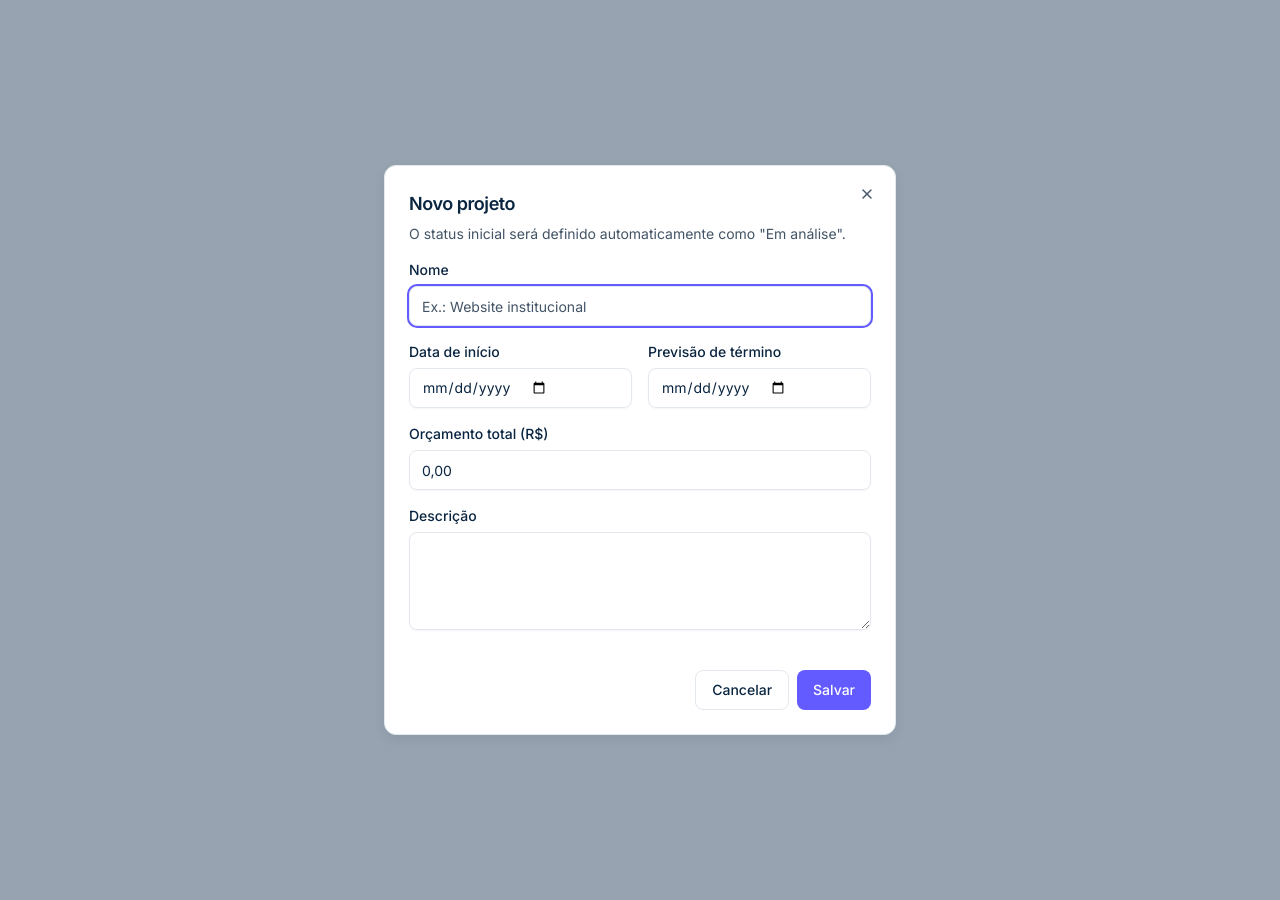
Test: ProjectFormModal › exibe erro quando a previsão de término não é posterior à data de início
In the field labelled "Nome": (640, 306) [409, 286, 871, 326], type "Projeto teste"
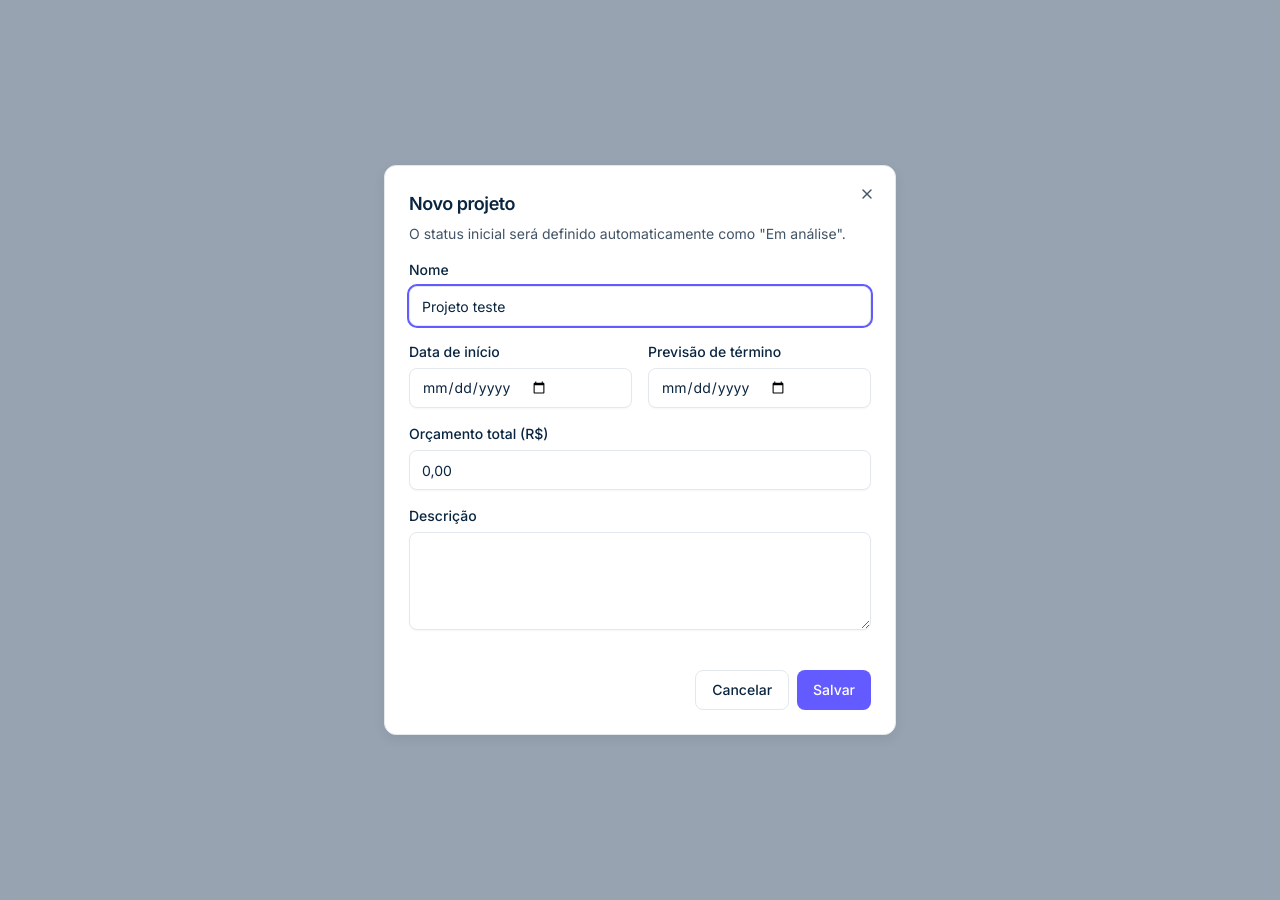
In the date field labelled "Data de início": (520, 388) [409, 368, 632, 408], type "2026-05-01"
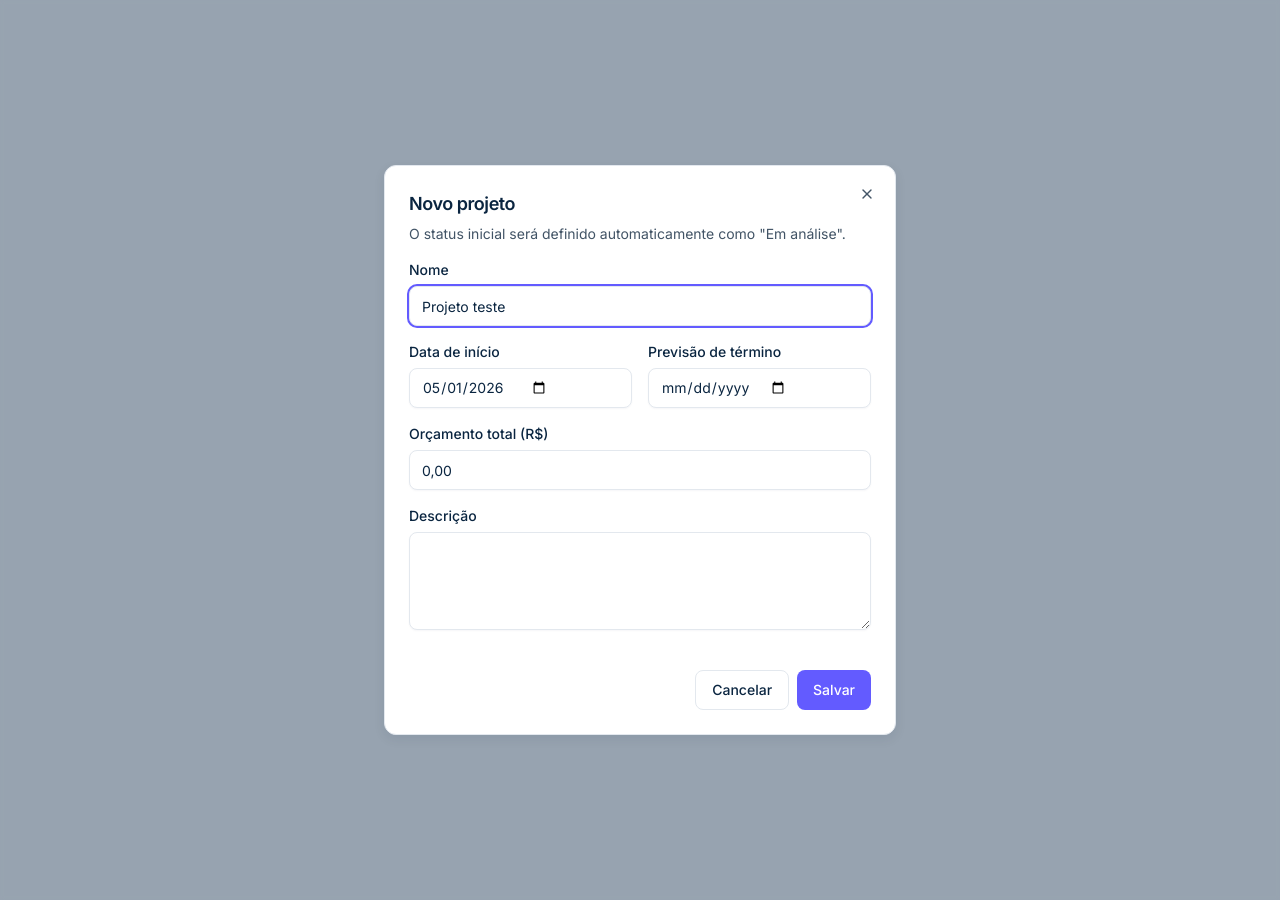
In the date field labelled "Previsão de término": (760, 388) [648, 368, 871, 408], type "2026-01-01"
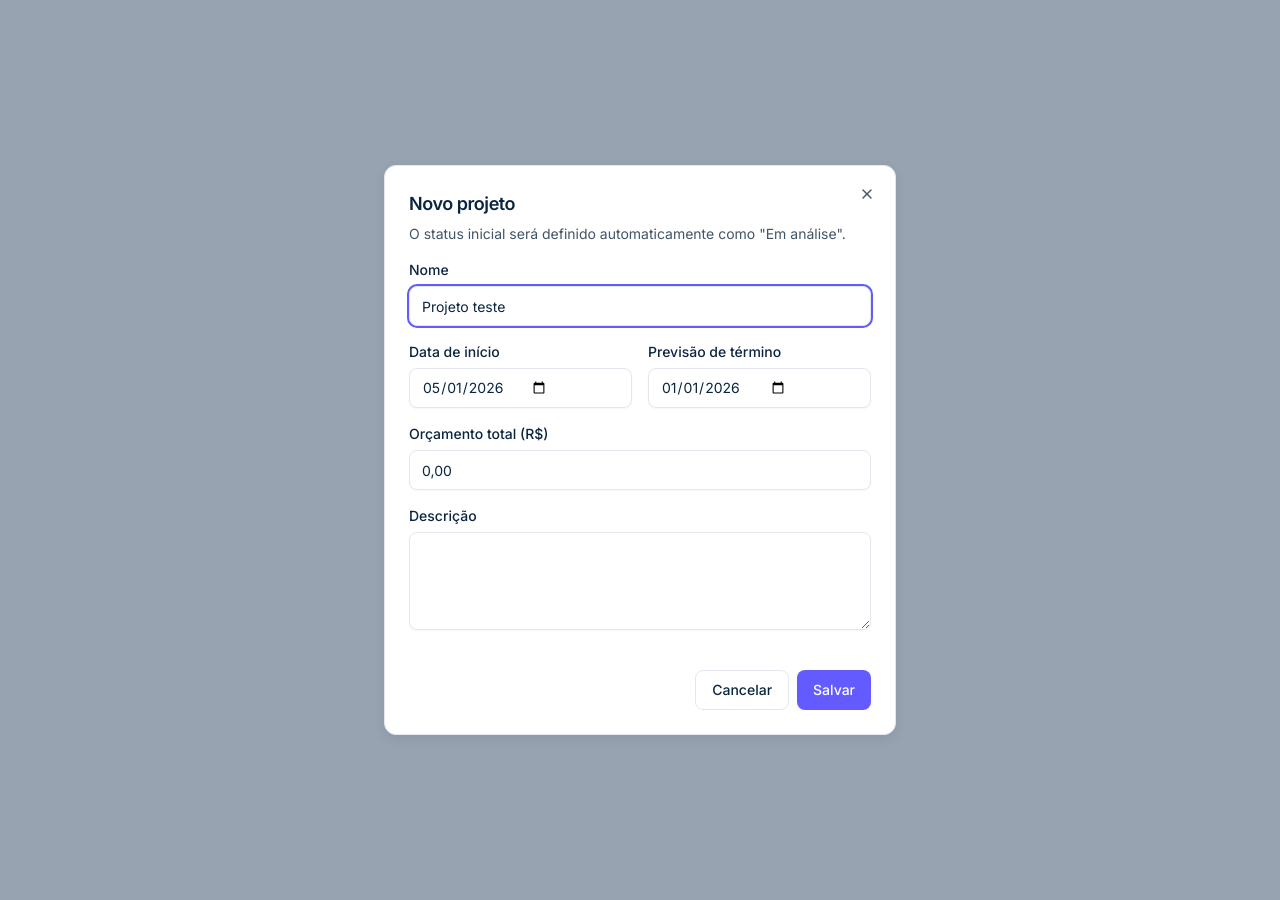
In the field labelled "Orçamento total (R$)": (640, 470) [409, 450, 871, 490], type "100000"
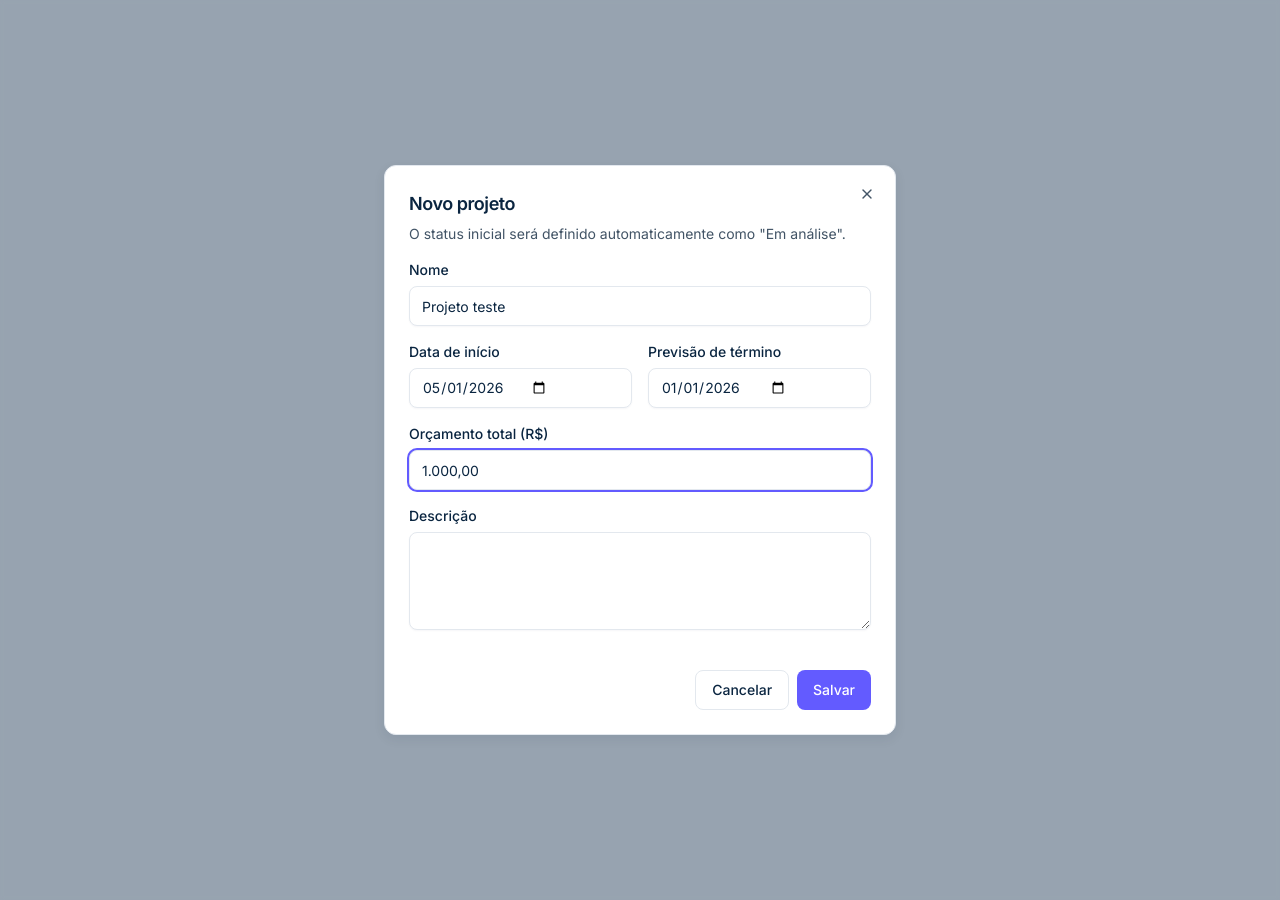
In the text box labelled "Descrição": (640, 581) [409, 532, 871, 630], type "Descrição"
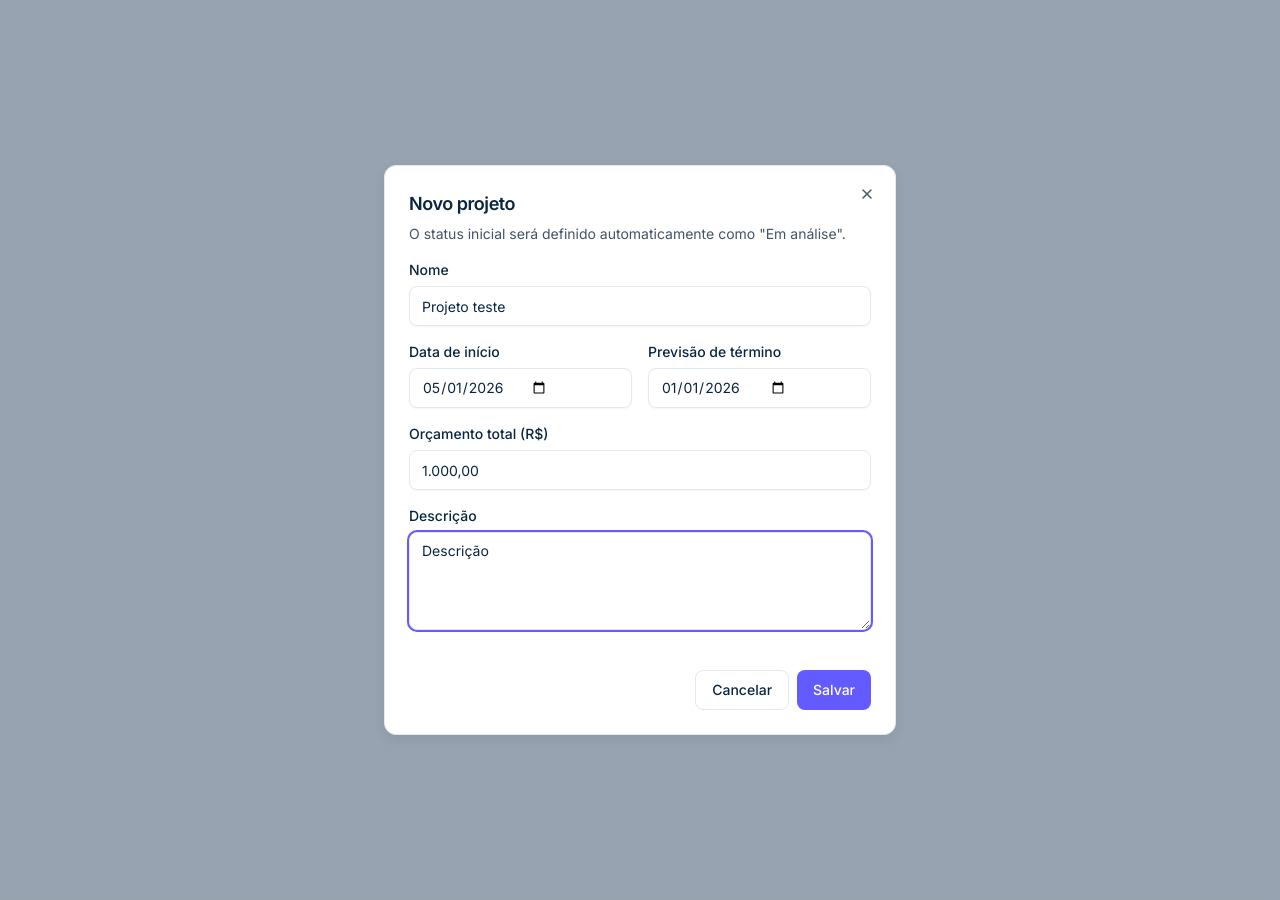
Click the button "Salvar": (834, 690) [797, 670, 871, 710]
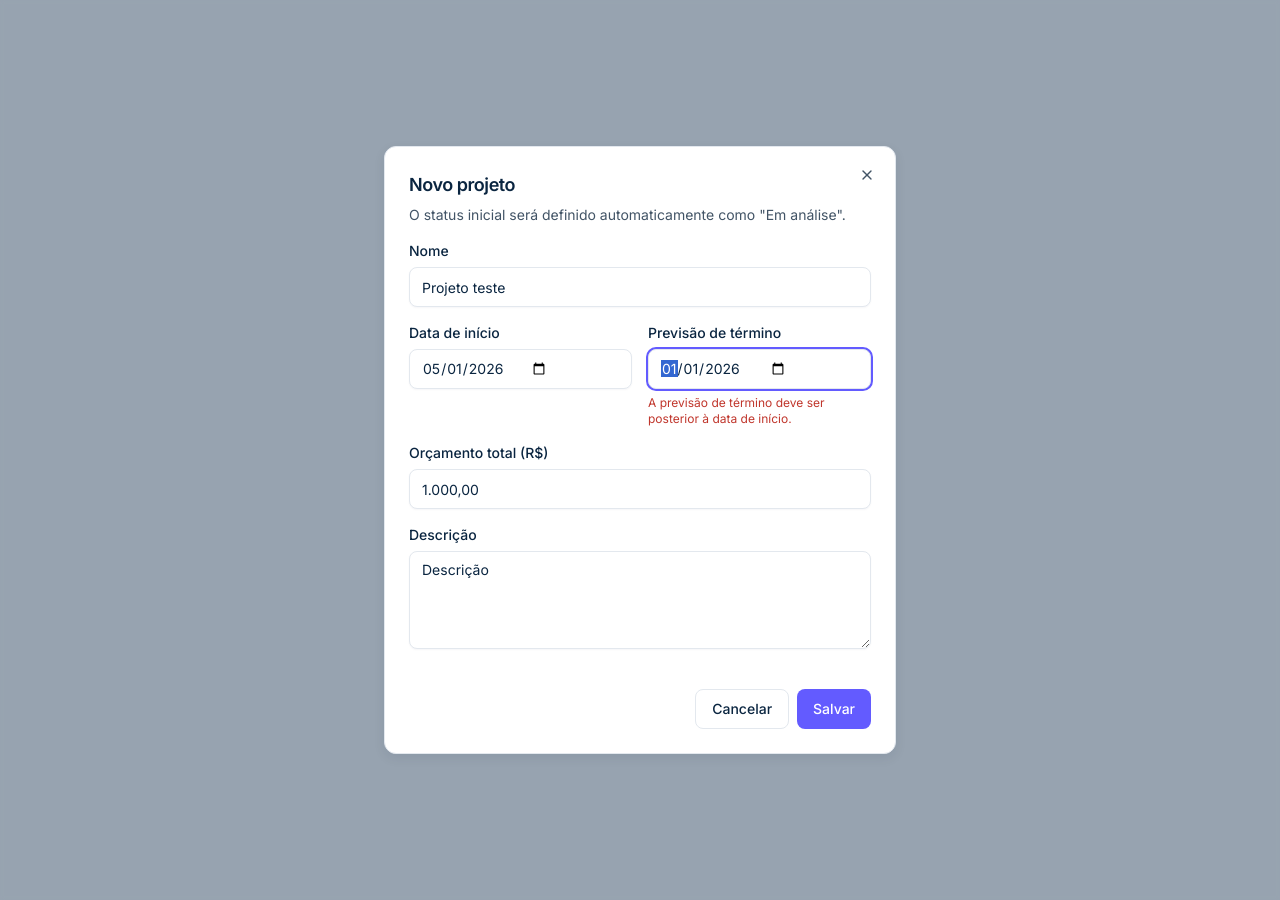
Check: the text "A previsão de término deve ser posterior à data de início." is shown, box [648, 395, 824, 426]
